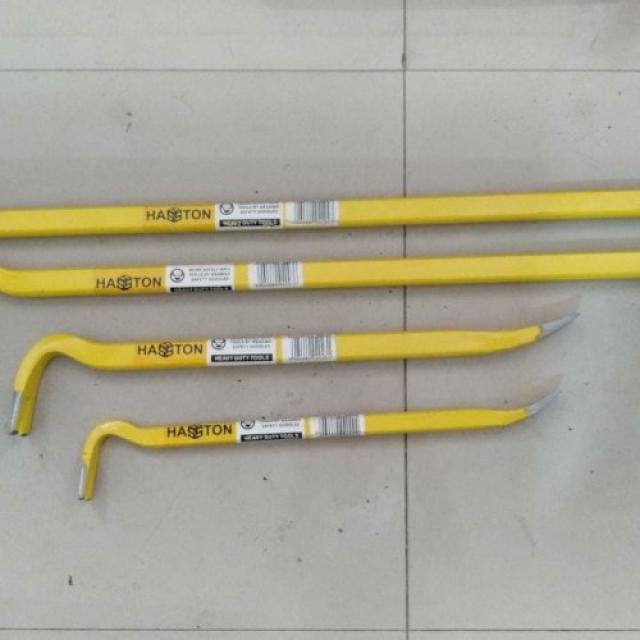Linggis: (10, 311, 577, 442)
